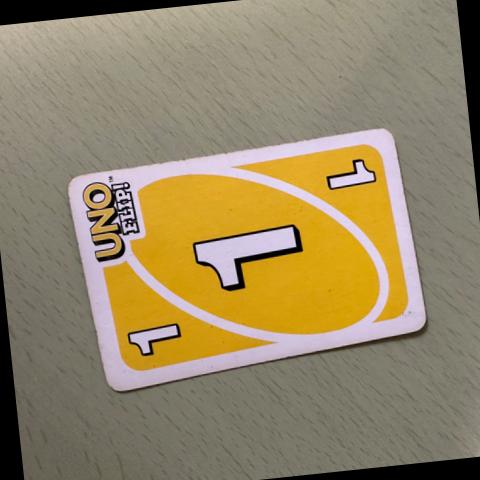5_red: (171, 218, 320, 296), (314, 152, 382, 201), (121, 314, 191, 360)
